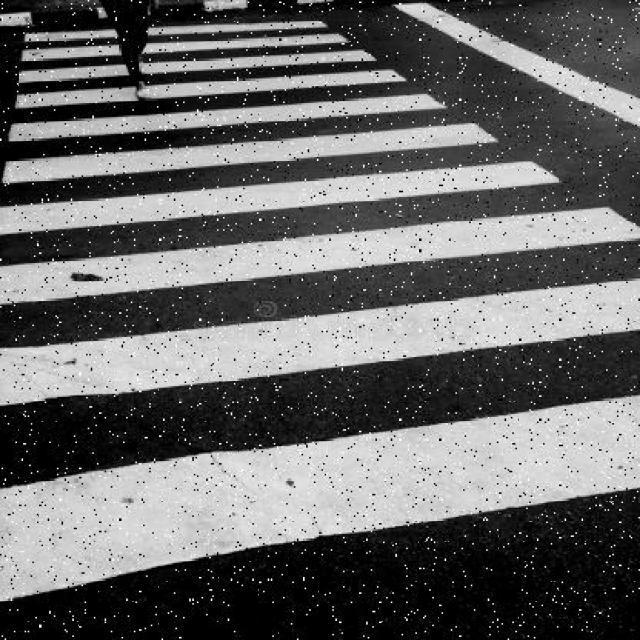Pedestrian crosswalk: (2, 6, 640, 606)
